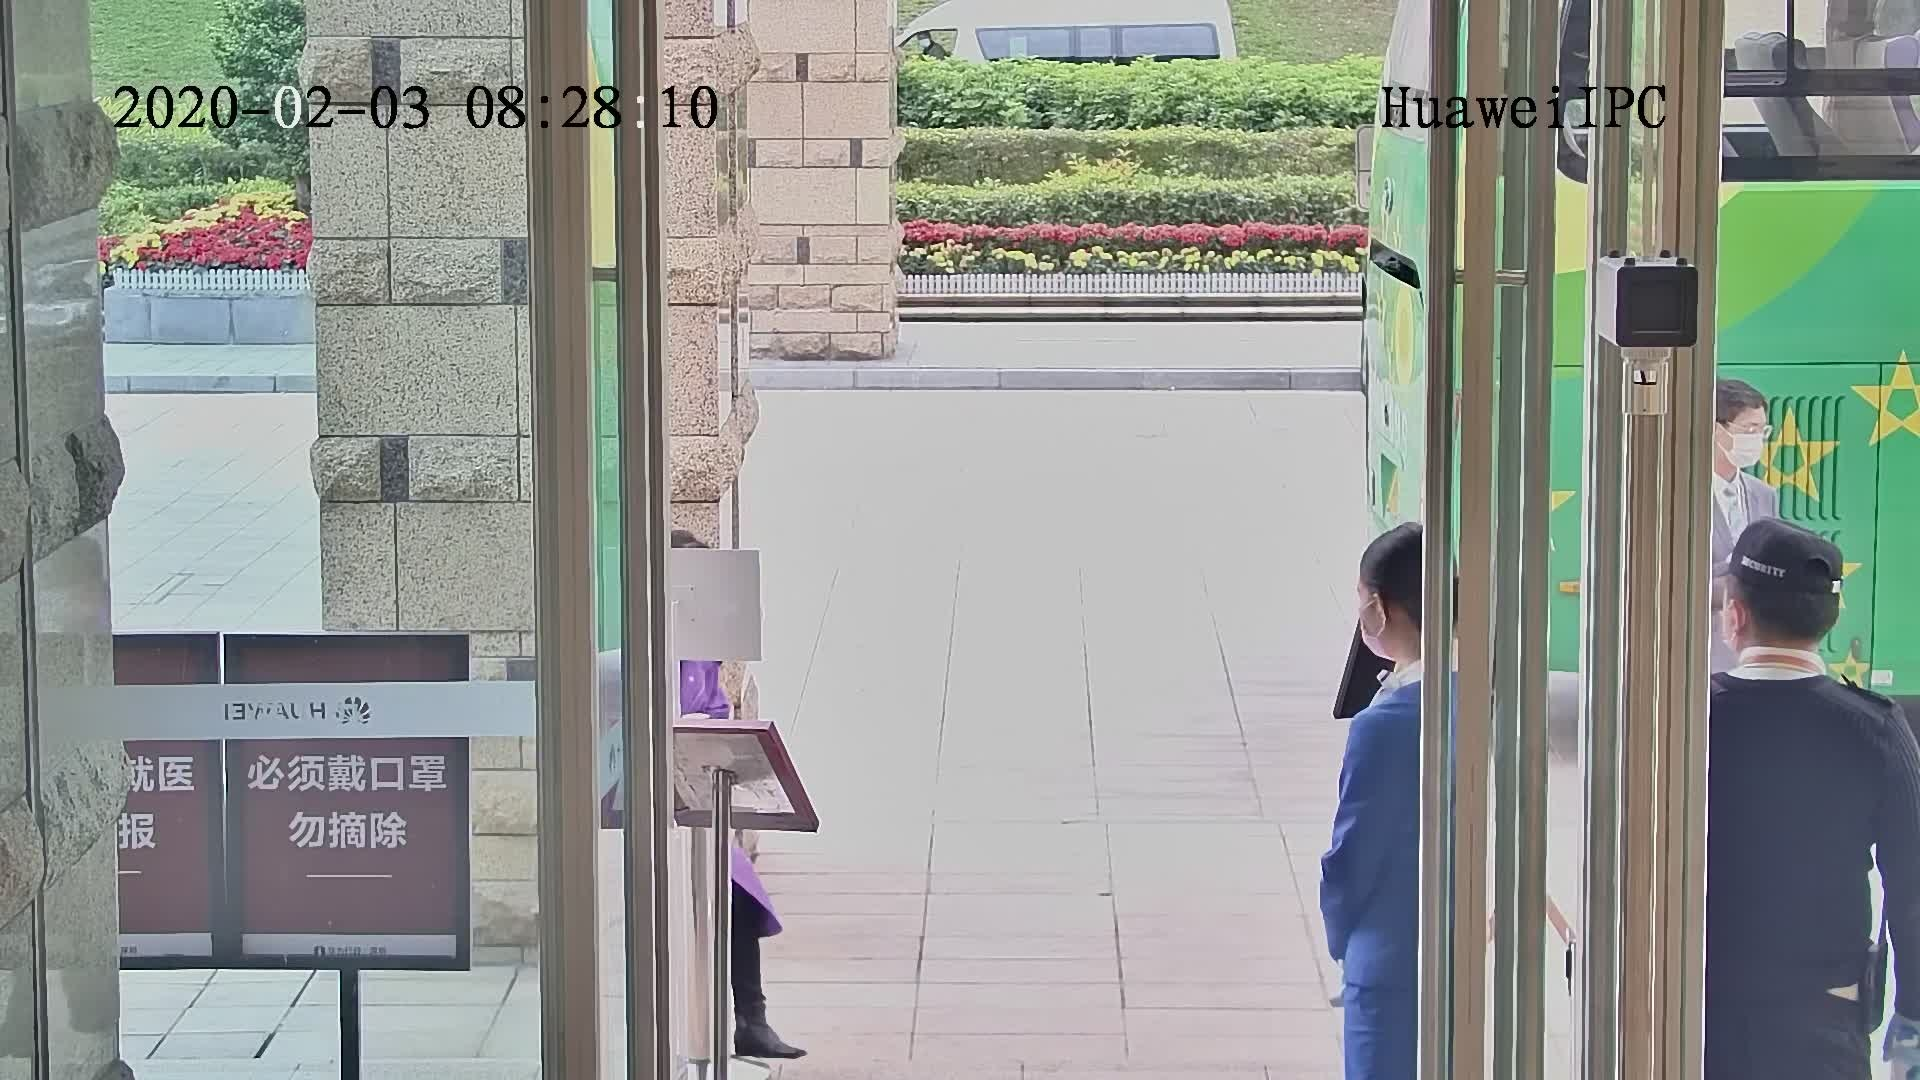face: (1718, 409, 1769, 475)
mask: (1727, 424, 1769, 473)
person: (1706, 511, 1902, 779), (1342, 513, 1433, 781), (1702, 376, 1785, 515)
